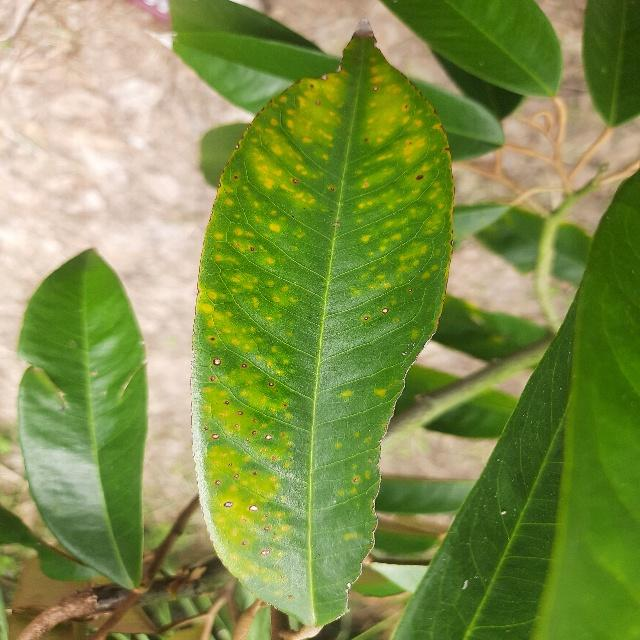Leaf Spot: (179, 10, 467, 640)
